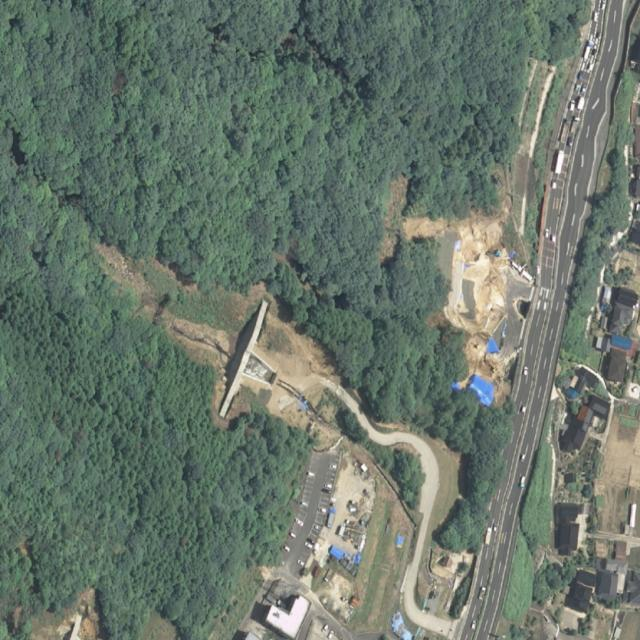landslide: (97, 245, 231, 369), (220, 284, 265, 320), (401, 217, 451, 239)
